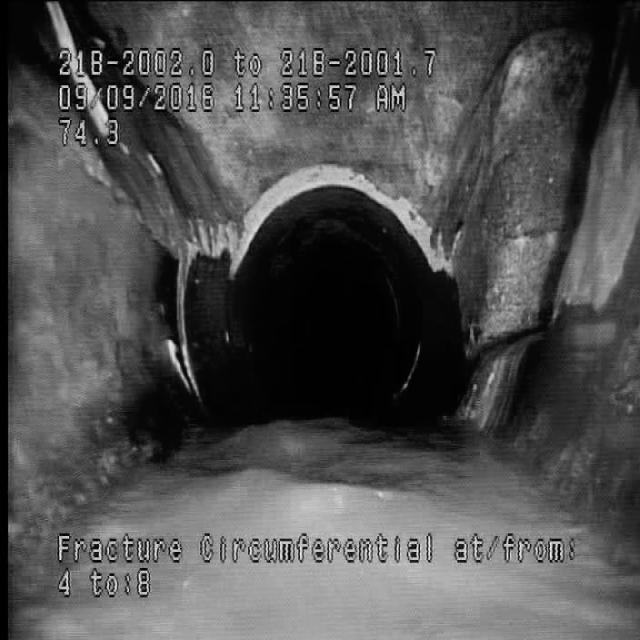Fracture: (508, 31, 618, 422), (52, 130, 212, 387)
